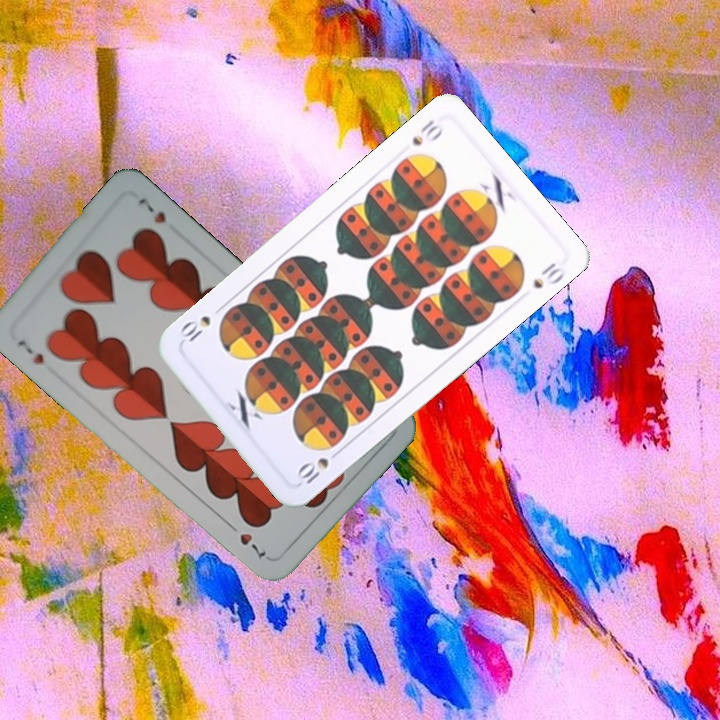H7: (13, 335, 47, 367)
S10: (292, 444, 345, 489), (408, 115, 446, 149)
